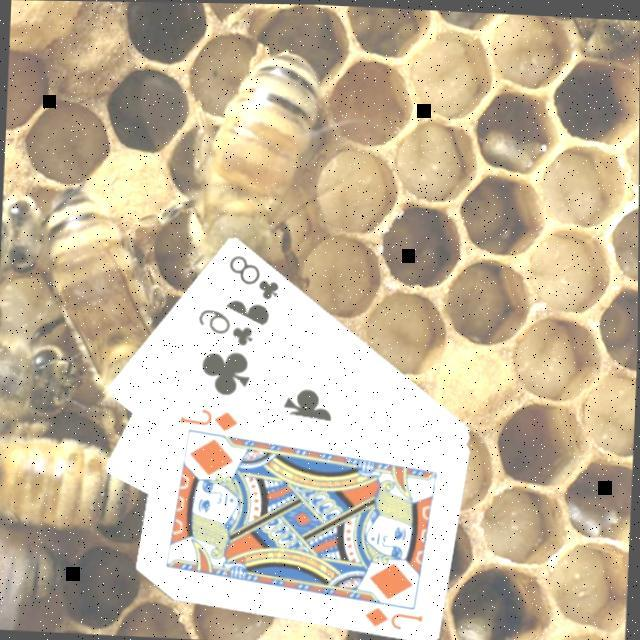6C: (196, 302, 258, 347)
8C: (225, 249, 285, 302)
JD: (362, 600, 428, 631), (178, 402, 243, 432)
